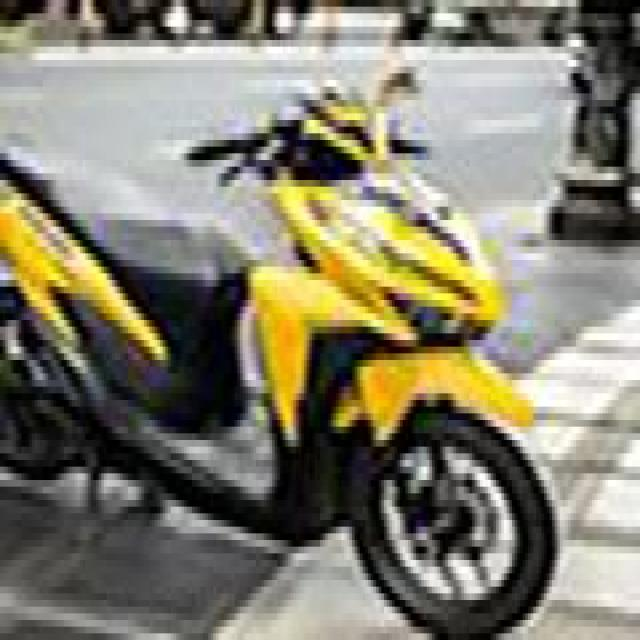motorcycle: (0, 53, 613, 639)
